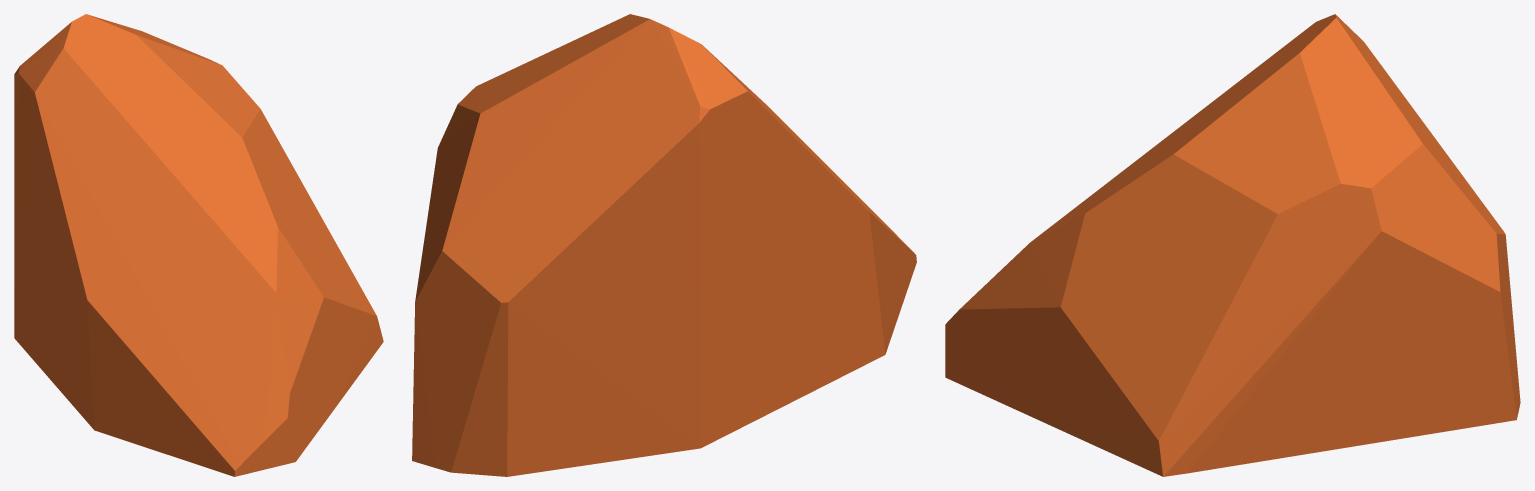
File: SMALLROCK07.fbx
The picture shows the model from 3 angles, left to right: view 1: azimuth 30°, elevation 25°; view 2: azimuth 150°, elevation 25°; view 3: azimuth 270°, elevation 25°; orthographic projection. The views are drawn at different scales.
Visible parts, largest first — view 1: SMALLROCK07; view 2: SMALLROCK07; view 3: SMALLROCK07.
Part boxes in pixels (left/top/right/bottom): SMALLROCK07: left=14, top=14, right=383, bottom=476; SMALLROCK07: left=412, top=14, right=916, bottom=476; SMALLROCK07: left=945, top=14, right=1520, bottom=476.
Bounding box in the file's own units: 44.36 × 44.3 × 66.8.
